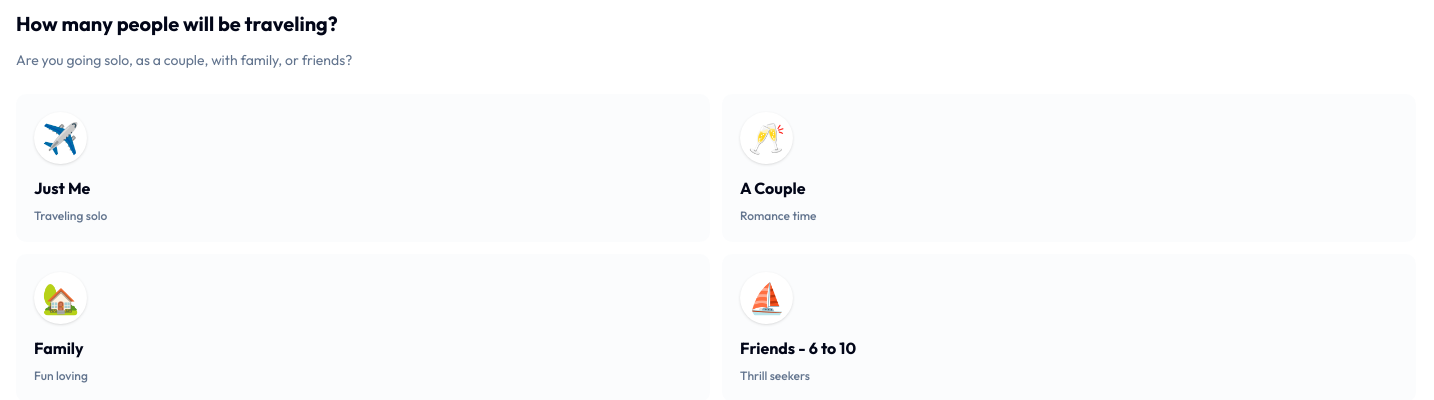
Test case: Trip planning UI components & accessibility › GroupSize renders all 4 accessible traveler options
Click the button "🥂 A Couple Romance time" at (767, 138), box [722, 94, 1416, 242]
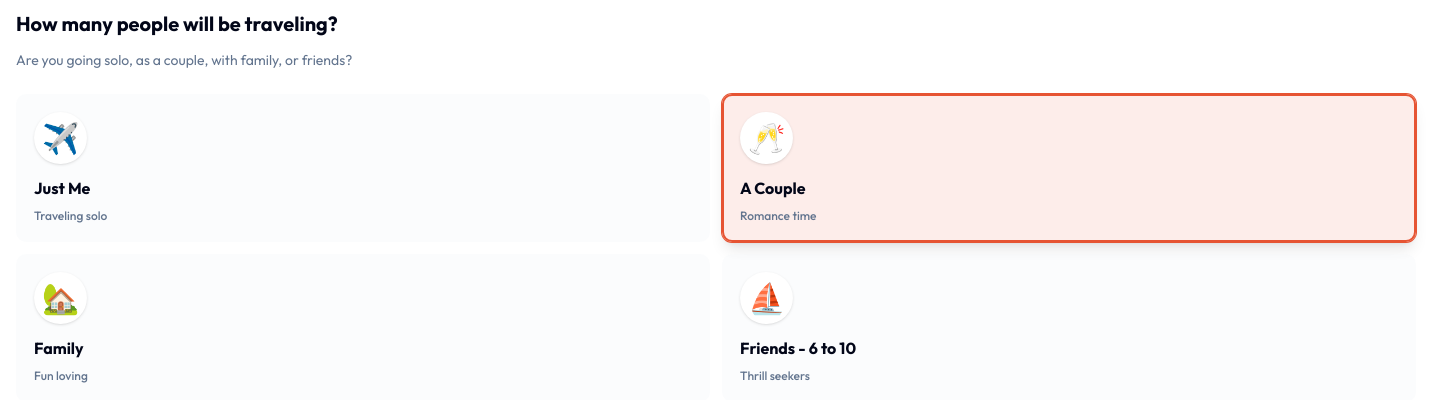
Expected: the button "🥂 A Couple Romance time" is pressed, [722, 94, 1416, 242]
